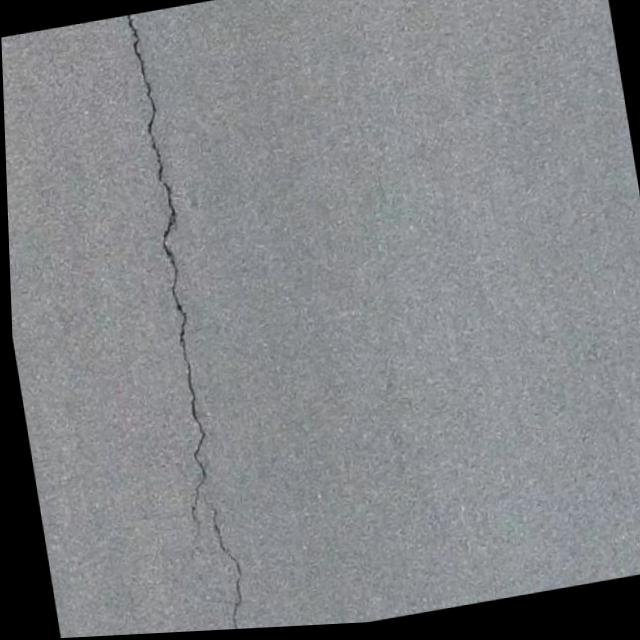Crack: (101, 16, 250, 636)
